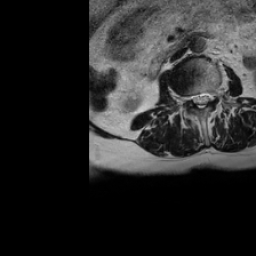CCS_normal: (197, 85, 204, 115)
LFS_normal: (211, 83, 217, 107)
LLS_normal: (204, 85, 211, 110)
RFS_stenosis: (184, 86, 191, 108)
RLS_normal: (191, 87, 197, 109)
